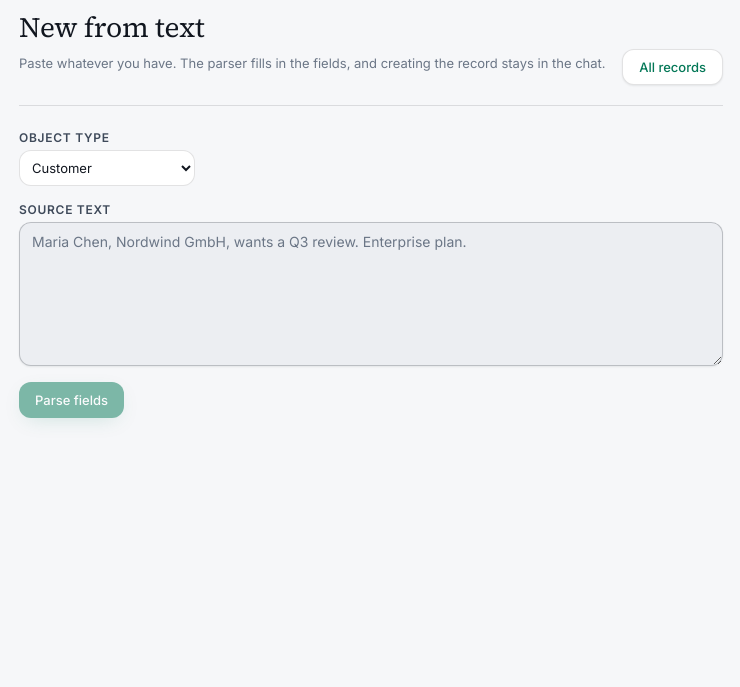
Test case: /records/new › names blank fallbacks instead of passing them off as a parse
Replace the text in the text box labelled "Source text" with "Maria Chen at Nordwind GmbH" at (371, 294), box [19,222,723,366]
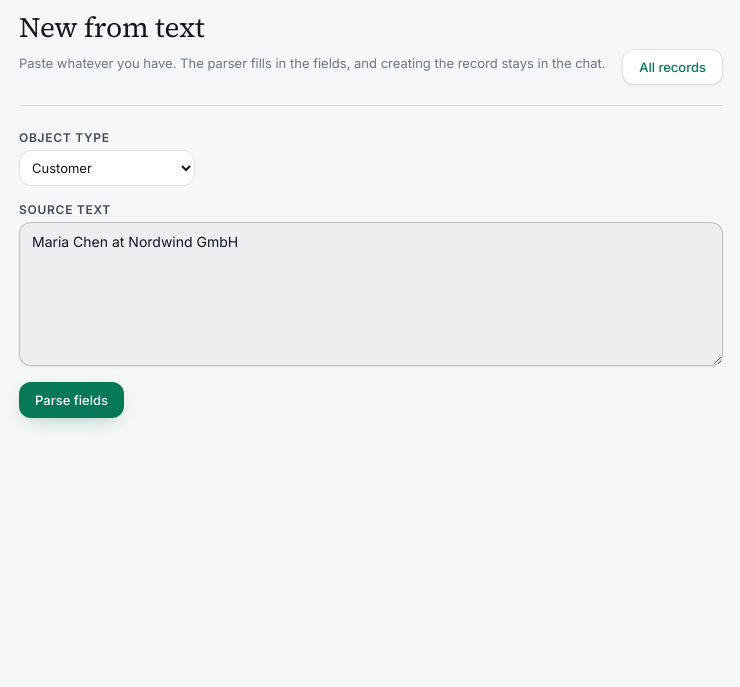
Click the button "Parse fields".
click(72, 400)  # box [19,382,124,418]
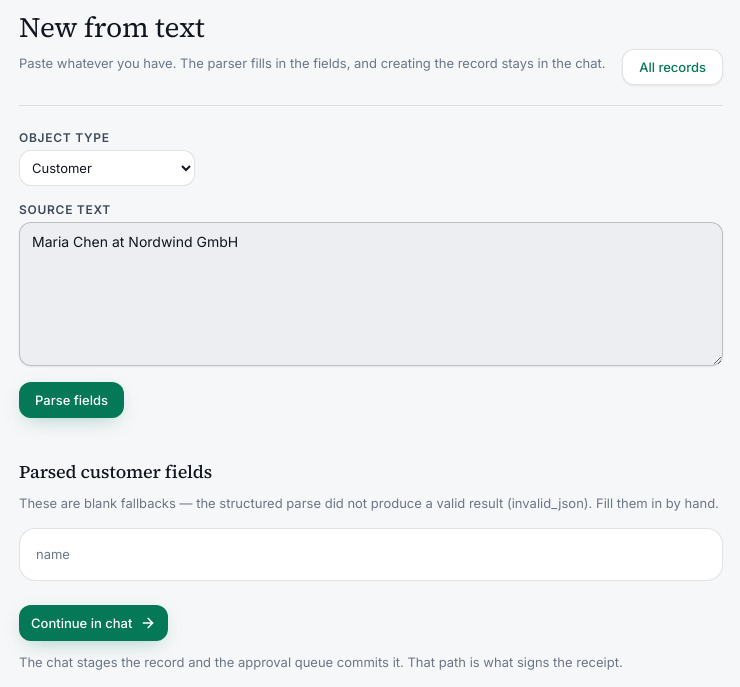
Check: the text "invalid_json" is shown, box [19,495,719,511]
